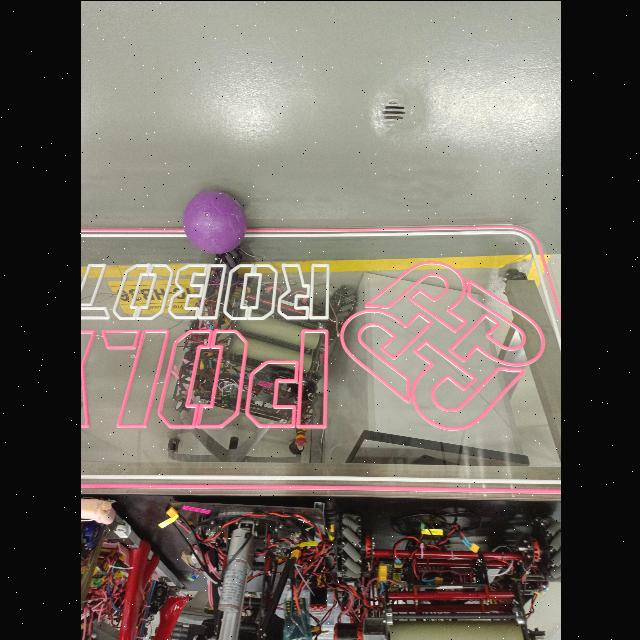P: (180, 184, 244, 252)
